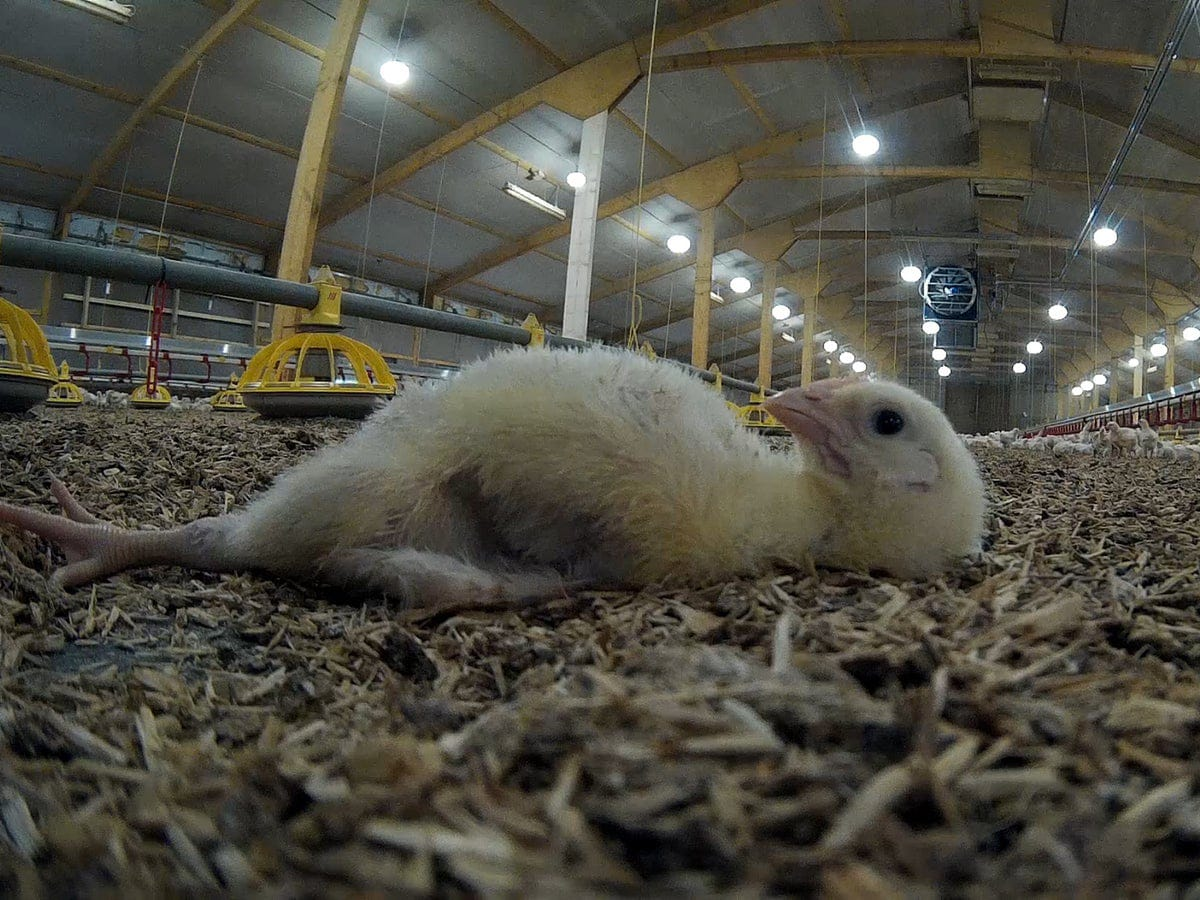Unhealthy: (11, 289, 1035, 682)
